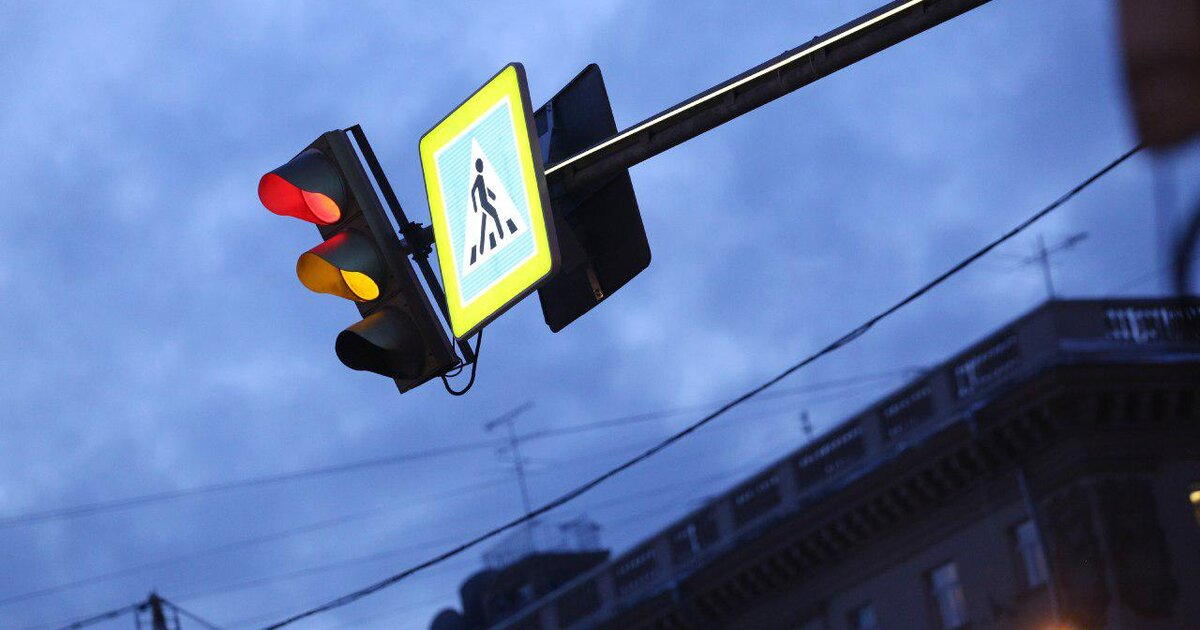tl: (257, 127, 430, 397)
